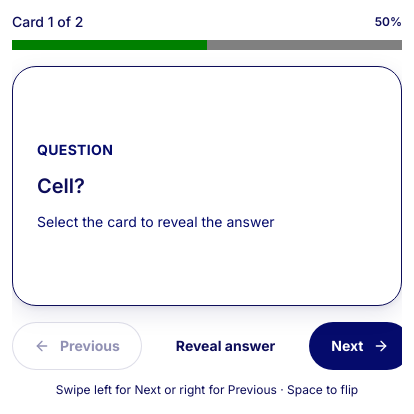
Test: FlashcardPractice › navigates previous and next
Expected: the text "Card 1 of 2" is shown, [12,12,83,32]
Click the button with aria-label "Next card": (356, 346) [309,322,402,370]
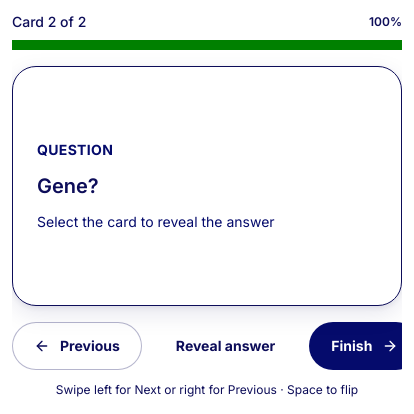
Expected: the text "Card 2 of 2" is shown, [12,12,86,32]
Click previous
Click the button "Previous": (77, 346) [12,322,142,370]
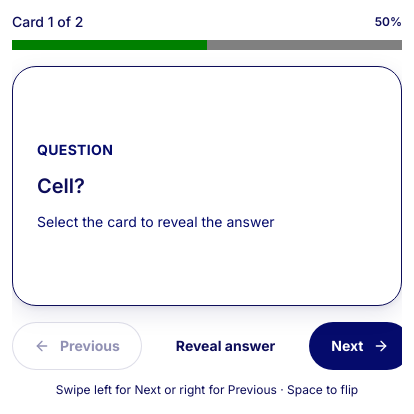
Expected: the text "Card 1 of 2" is shown, [12,12,83,32]
Expected: the text "Cell?" is shown, [37,174,85,198]
